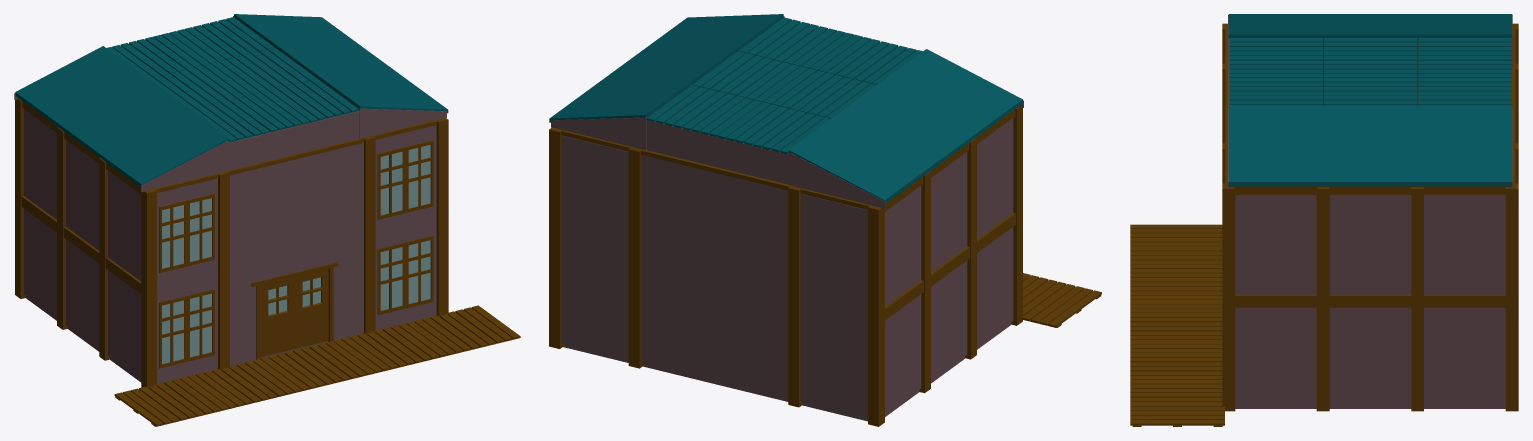
Rendered from Env_GunSmith.fbx.
3 renders of one model, left to right at view 1: azimuth 30°, elevation 25°; view 2: azimuth 150°, elevation 25°; view 3: azimuth 270°, elevation 25°, orthographic. The views are drawn at different scales.
Visible parts, largest first — view 1: pCube272, Wall_Doorframe_Master_Copy1, pCube285, pCube286, pCube287, pCube19, pCube338, pCube288, pCube292, pCube337, Wood_Pillar_two_Storey4, pCube282 (+26 smaller); view 2: pCube274, pCube273, Wall_Standard_Master_Copy11, Wall_Standard_Master_Copy10, Wall_Standard_Master_Copy9, Wall_Standard_Master_Copy12, pCube287, pCube286, pCube285, pCube289, Wood_Pillar_two_Storey10, pCube284 (+21 smaller); view 3: Wall_Standard_Master_Copy14, Wall_Standard_Master_Copy13, Wall_Standard_Master_Copy4, Wall_Standard_Master_Copy6, Wall_Standard_Master_Copy1, Wall_Standard_Master_Copy5, pCube282, pCube284, pCube283, Wood_Pillar_two_Storey7, Wood_Pillar_two_Storey5, Wood_Pillar_two_Storey3 (+101 smaller).
Part boxes in pixels (x1=…): pCube272: x1=230, y1=143, x2=363, y2=269; Wall_Doorframe_Master_Copy1: x1=230, y1=238, x2=363, y2=365; pCube285: x1=99, y1=107, x2=229, y2=187; pCube286: x1=57, y1=76, x2=186, y2=156; pCube287: x1=15, y1=46, x2=144, y2=125; pCube19: x1=377, y1=140, x2=433, y2=219; pCube338: x1=377, y1=235, x2=433, y2=315; pCube288: x1=228, y1=110, x2=359, y2=170; pCube292: x1=159, y1=193, x2=214, y2=273; pCube337: x1=159, y1=289, x2=214, y2=368; Wood_Pillar_two_Storey4: x1=141, y1=189, x2=156, y2=387; pCube282: x1=318, y1=75, x2=448, y2=113; pCube274: x1=641, y1=258, x2=788, y2=398; pCube273: x1=641, y1=155, x2=788, y2=293; Wall_Standard_Master_Copy11: x1=562, y1=135, x2=628, y2=255; Wall_Standard_Master_Copy10: x1=801, y1=194, x2=867, y2=314; Wall_Standard_Master_Copy9: x1=801, y1=297, x2=867, y2=417; Wall_Standard_Master_Copy12: x1=562, y1=239, x2=628, y2=359; pCube287: x1=788, y1=116, x2=930, y2=203; pCube286: x1=835, y1=82, x2=976, y2=170; pCube285: x1=881, y1=49, x2=1022, y2=136; pCube289: x1=646, y1=120, x2=789, y2=184; Wood_Pillar_two_Storey10: x1=868, y1=205, x2=884, y2=426; pCube284: x1=549, y1=81, x2=691, y2=122; Wall_Standard_Master_Copy14: x1=1329, y1=195, x2=1411, y2=294; Wall_Standard_Master_Copy13: x1=1329, y1=307, x2=1411, y2=405; Wall_Standard_Master_Copy4: x1=1235, y1=195, x2=1316, y2=294; Wall_Standard_Master_Copy6: x1=1424, y1=195, x2=1505, y2=294; Wall_Standard_Master_Copy1: x1=1235, y1=307, x2=1316, y2=405; Wall_Standard_Master_Copy5: x1=1424, y1=307, x2=1505, y2=405; pCube282: x1=1228, y1=106, x2=1323, y2=186; pCube284: x1=1417, y1=106, x2=1512, y2=186; pCube283: x1=1323, y1=106, x2=1417, y2=186; Wood_Pillar_two_Storey7: x1=1505, y1=183, x2=1518, y2=411; Wood_Pillar_two_Storey5: x1=1316, y1=187, x2=1329, y2=411; Wood_Pillar_two_Storey3: x1=1222, y1=183, x2=1235, y2=411.
Size of the model in its own units: 1000 by 605 by 822.
